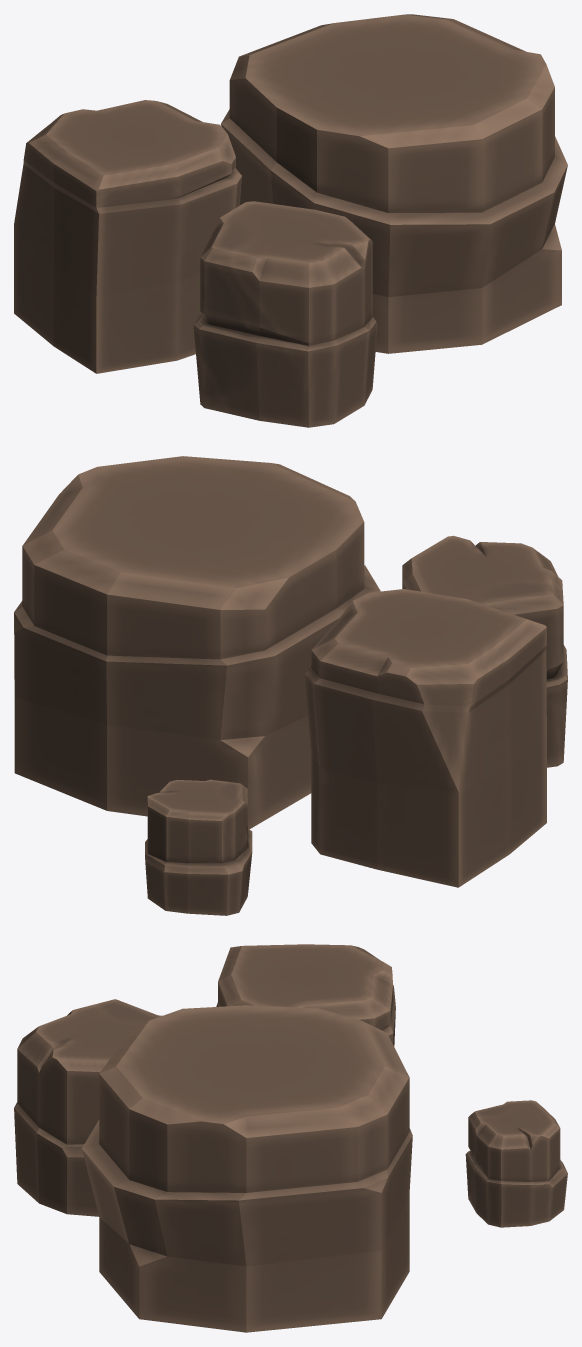
Rendered from Lava-SmallRocks003.fbx.
3 views of the same model, one above another, from view 1: azimuth 30°, elevation 25°; view 2: azimuth 150°, elevation 25°; view 3: azimuth 270°, elevation 25° (orthographic). The views are drawn at different scales.
Parts seen in each view (by area): view 1: Lava-SmallRocks-003; view 2: Lava-SmallRocks-003; view 3: Lava-SmallRocks-003.
Part boxes in pixels (box(x1,y1,x2,y2)): Lava-SmallRocks-003: box(14, 14, 567, 427); Lava-SmallRocks-003: box(14, 456, 567, 915); Lava-SmallRocks-003: box(14, 944, 567, 1332).
Bounding box in the file's own units: 627 × 281 × 681.
